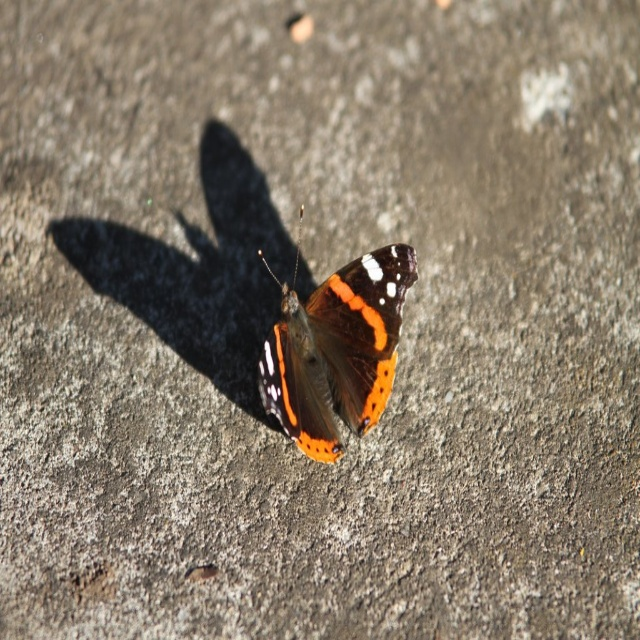Butterfly: (245, 193, 416, 460)
